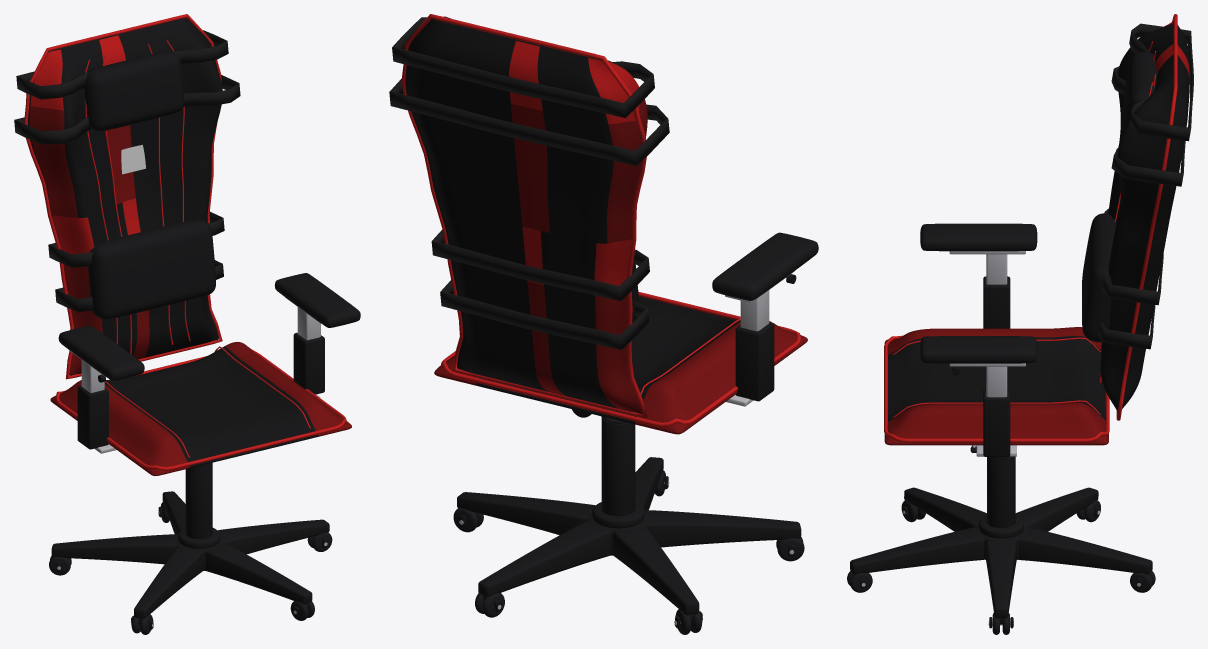
The model's file is racing_gaming_chair.glb.
The picture shows the model from 3 angles, left to right: view 1: azimuth 30°, elevation 25°; view 2: azimuth 150°, elevation 25°; view 3: azimuth 270°, elevation 25°; orthographic projection. The views are drawn at different scales.
Visible parts, largest first — view 1: SM_Chair_Backrest, SM_Chair_Seat, SM_Chair_Base_Legs, SM_Chair_Pillow_Lumbar, SM_Chair_Pillow_Headrest, SM_Chair_Backrest_Piping, SM_Chair_Armrest_L_Pad, SM_Chair_Armrest_R_Pad, SM_Chair_Strap_Head_Low, SM_Chair_GasLift_Sleeve, SM_Chair_Strap_Head_Top, SM_Chair_Armrest_R_Post (+9 smaller); view 2: SM_Chair_Backrest, SM_Chair_Base_Legs, SM_Chair_Seat, SM_Chair_Strap_Head_Low, SM_Chair_Strap_Head_Top, SM_Chair_Backrest_Piping, SM_Chair_Armrest_R_Pad, SM_Chair_Strap_Lumb_Top, SM_Chair_Strap_Lumb_Low, SM_Chair_GasLift_Sleeve, SM_Chair_Armrest_R_Post, SM_Chair_Seat_Piping (+3 smaller); view 3: SM_Chair_Seat, SM_Chair_Backrest, SM_Chair_Base_Legs, SM_Chair_Armrest_R_Pad, SM_Chair_Armrest_L_Pad, SM_Chair_Pillow_Lumbar, SM_Chair_GasLift_Sleeve, SM_Chair_Strap_Head_Top, SM_Chair_Armrest_L_Post, SM_Chair_Backrest_Piping, SM_Chair_Caster_Wheels, SM_Chair_Pillow_Headrest (+8 smaller).
Part boxes in pixels (x1,y1,x2,y2): SM_Chair_Backrest: (28, 18, 222, 375); SM_Chair_Seat: (50, 342, 351, 475); SM_Chair_Base_Legs: (51, 491, 329, 618); SM_Chair_Pillow_Lumbar: (88, 219, 215, 319); SM_Chair_Pillow_Headrest: (84, 51, 183, 131); SM_Chair_Backrest_Piping: (24, 14, 222, 379); SM_Chair_Armrest_L_Pad: (274, 273, 360, 327); SM_Chair_Armrest_R_Pad: (58, 325, 144, 380); SM_Chair_Strap_Head_Low: (14, 75, 240, 144); SM_Chair_GasLift_Sleeve: (185, 462, 212, 538); SM_Chair_Strap_Head_Top: (16, 30, 228, 99); SM_Chair_Armrest_R_Post: (77, 385, 108, 449); SM_Chair_Backrest: (405, 18, 647, 413); SM_Chair_Base_Legs: (457, 457, 801, 615); SM_Chair_Seat: (434, 296, 807, 434); SM_Chair_Strap_Head_Low: (389, 79, 669, 165); SM_Chair_Strap_Head_Top: (392, 16, 654, 117); SM_Chair_Backrest_Piping: (401, 14, 647, 417); SM_Chair_Armrest_R_Pad: (712, 232, 818, 300); SM_Chair_Strap_Lumb_Top: (431, 229, 649, 300); SM_Chair_Strap_Lumb_Low: (440, 280, 649, 349); SM_Chair_GasLift_Sleeve: (601, 418, 635, 516); SM_Chair_Armrest_R_Post: (735, 322, 774, 401); SM_Chair_Seat_Piping: (441, 291, 800, 426); SM_Chair_Seat: (884, 327, 1108, 445); SM_Chair_Backrest: (1100, 20, 1189, 411); SM_Chair_Base_Legs: (850, 487, 1152, 618); SM_Chair_Armrest_R_Pad: (920, 223, 1037, 251); SM_Chair_Armrest_L_Pad: (920, 336, 1037, 363); SM_Chair_Pillow_Lumbar: (1082, 213, 1116, 342); SM_Chair_GasLift_Sleeve: (987, 456, 1015, 527); SM_Chair_Strap_Head_Top: (1129, 23, 1193, 141); SM_Chair_Armrest_L_Post: (983, 389, 1010, 456); SM_Chair_Backrest_Piping: (1116, 14, 1177, 420); SM_Chair_Caster_Wheels: (847, 500, 1155, 634); SM_Chair_Pillow_Headrest: (1122, 51, 1156, 132).
Bounding box in the file's own units: 0.6998 × 1.27 × 0.7697.
